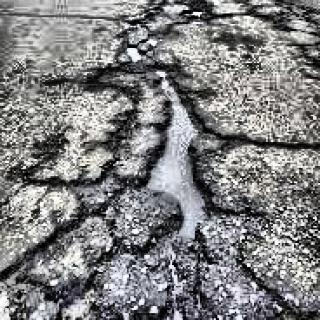alligator-crack: (15, 191, 266, 320)
crack: (222, 128, 320, 154)
pothole: (132, 70, 214, 244), (122, 44, 144, 65), (180, 9, 206, 19), (142, 34, 158, 48)
